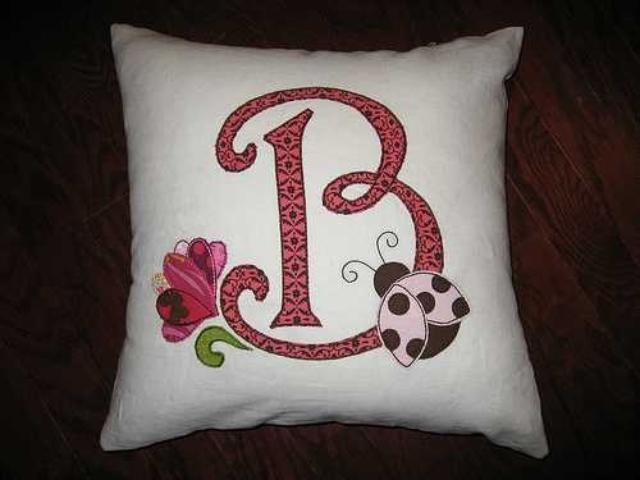pillow: (98, 21, 550, 458)
